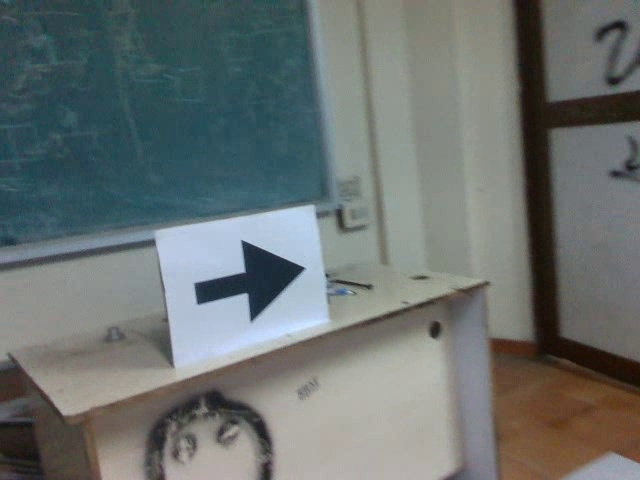Right: (185, 232, 308, 324)
